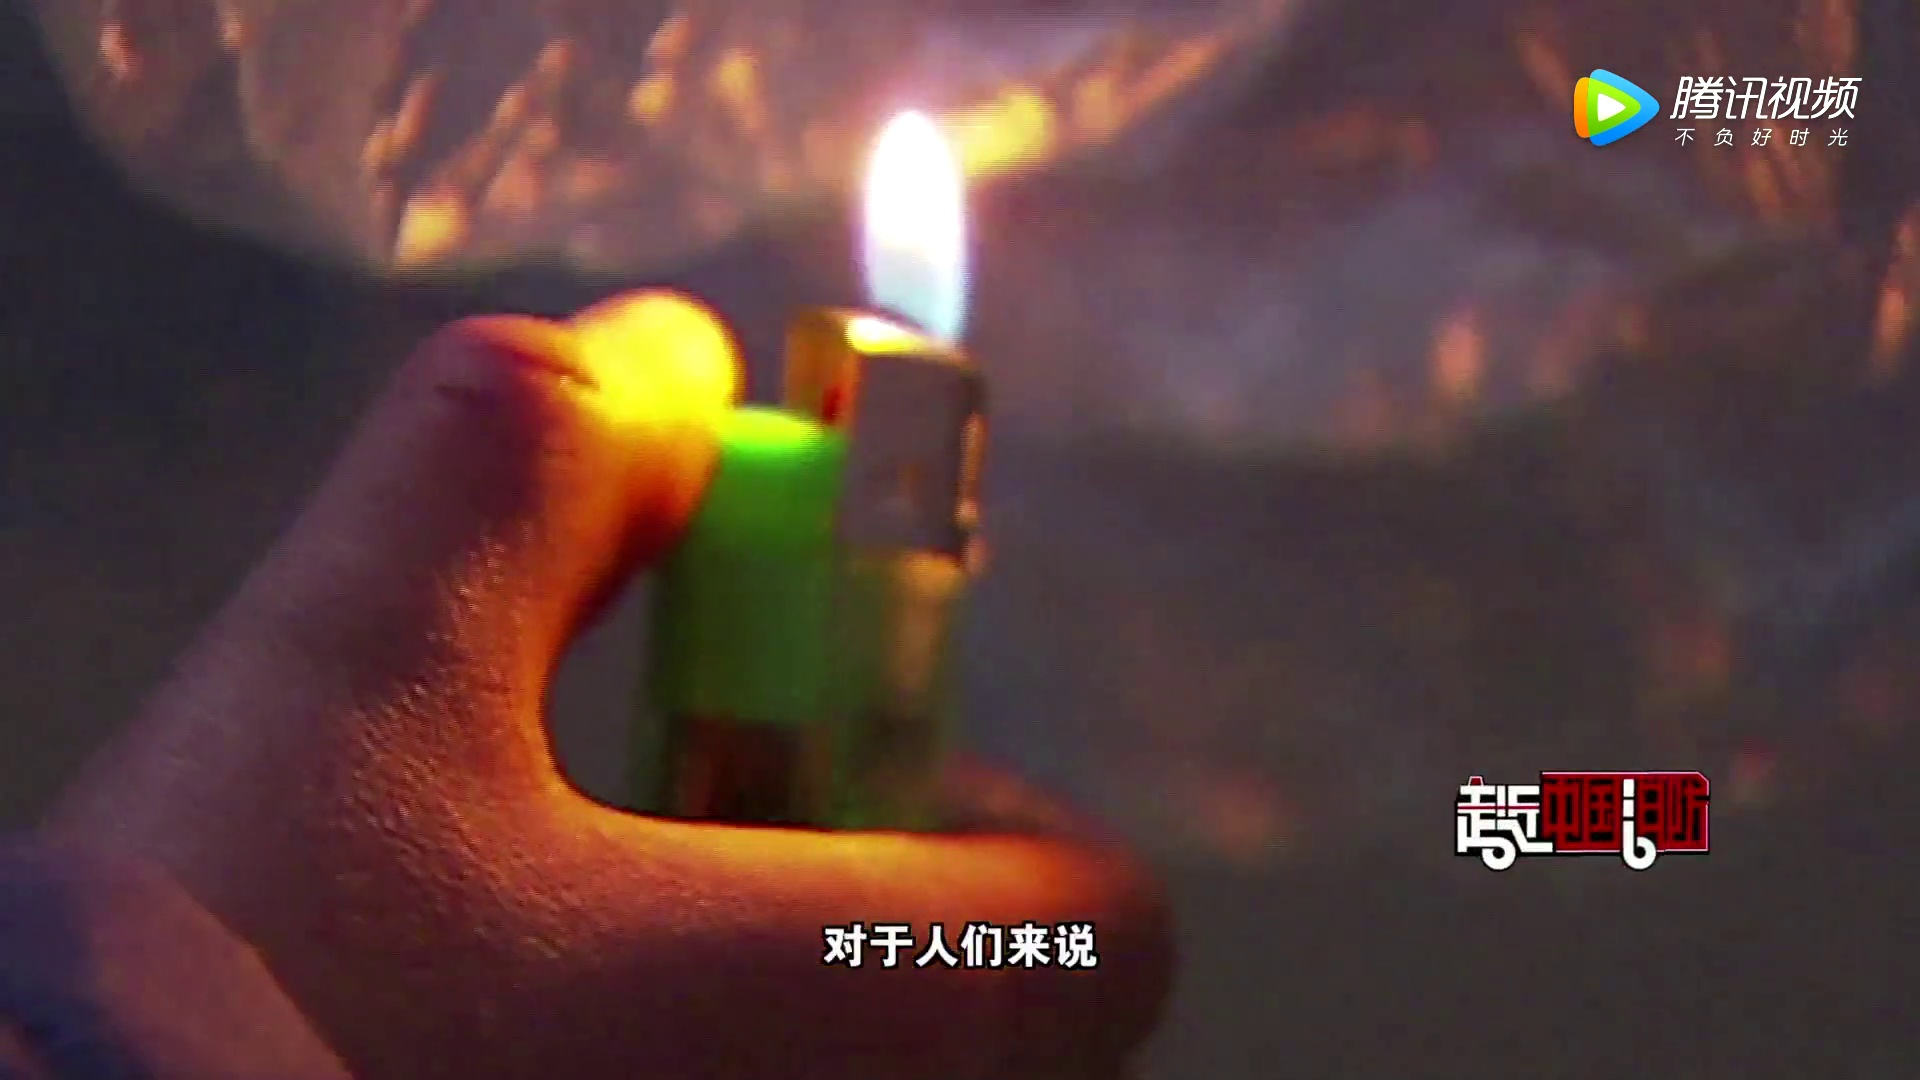fire: (847, 91, 982, 363)
